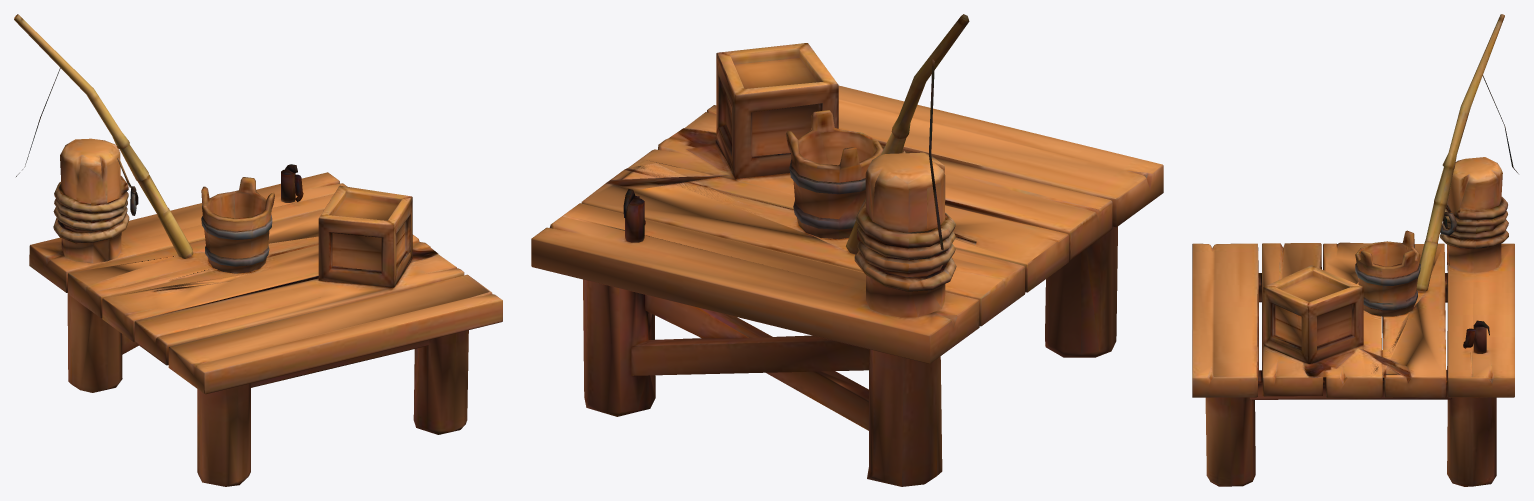
Rendered from fishing.glb.
3 renders of one model, left to right at view 1: azimuth 30°, elevation 25°; view 2: azimuth 150°, elevation 25°; view 3: azimuth 270°, elevation 25°, orthographic. The views are drawn at different scales.
Visible parts, largest first — view 1: fishing; view 2: fishing; view 3: fishing.
Part boxes in pixels (x1,y1,x2,y2): fishing: (14,14,502,486); fishing: (531,14,1163,486); fishing: (1192,14,1518,486).
Bounding box in the file's own units: 0.8767 × 0.9609 × 0.8376.
1 material, 1 textured.
